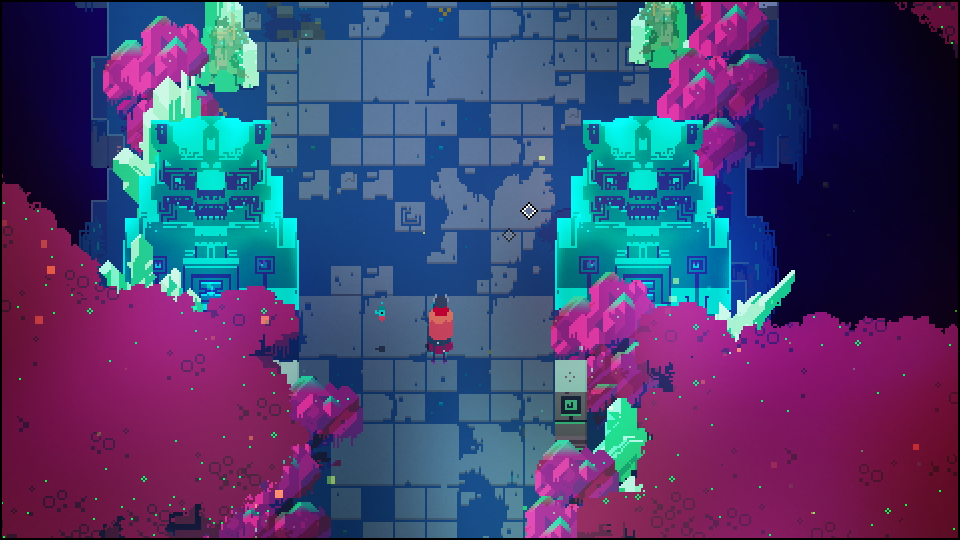player: (425, 293, 452, 348)
